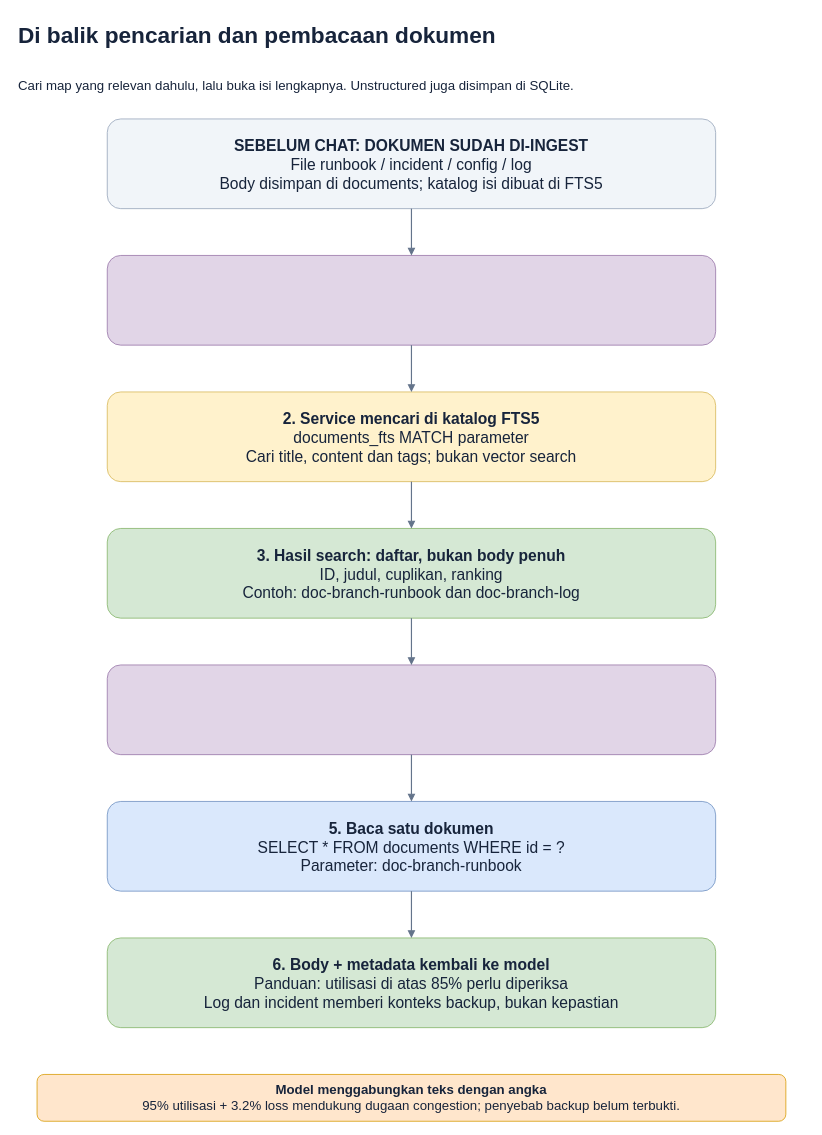
Image size: 822x1135. Some labels were removed from this diagram. Each missing label, with the centre of its shape:
1. search_documents Keyword: congestion; filter deviceId: br-sw-01: (x=411, y=300)
4. get_document documentId: doc-branch-runbook: (x=411, y=709)
